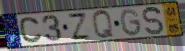3: (41, 15, 63, 43)
C: (18, 16, 44, 44)
G: (119, 8, 143, 38)
Q: (91, 9, 116, 41)
S: (142, 6, 166, 36)
Z: (66, 12, 92, 41)
